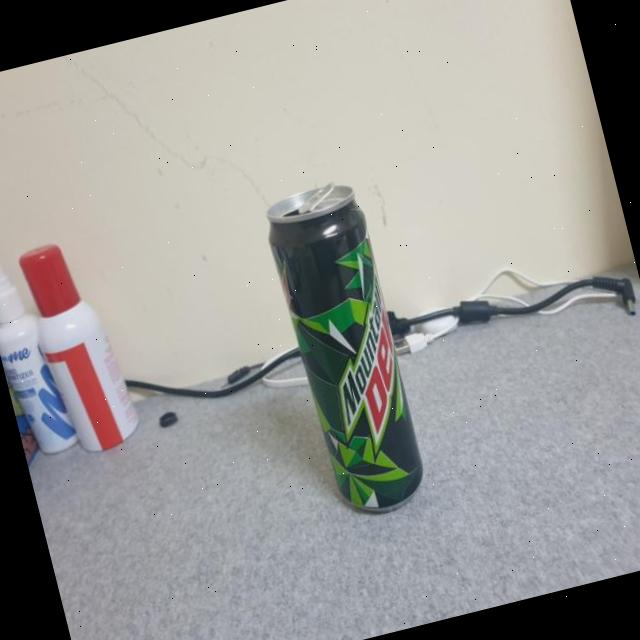trash: (250, 174, 438, 526)
